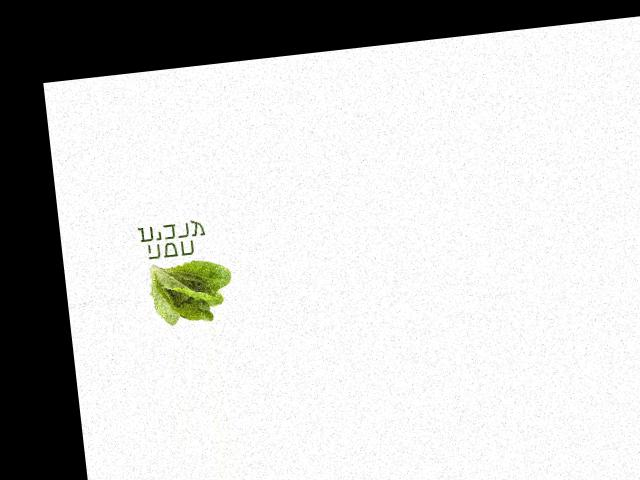lettuce: (141, 248, 236, 328)
